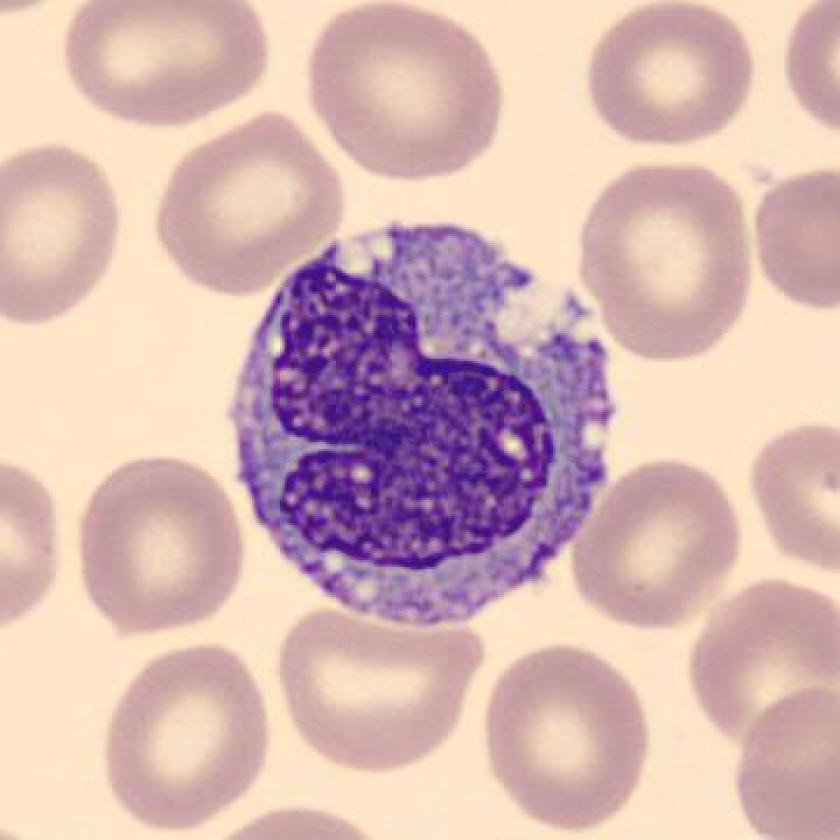monocyte: (211, 203, 631, 645)
